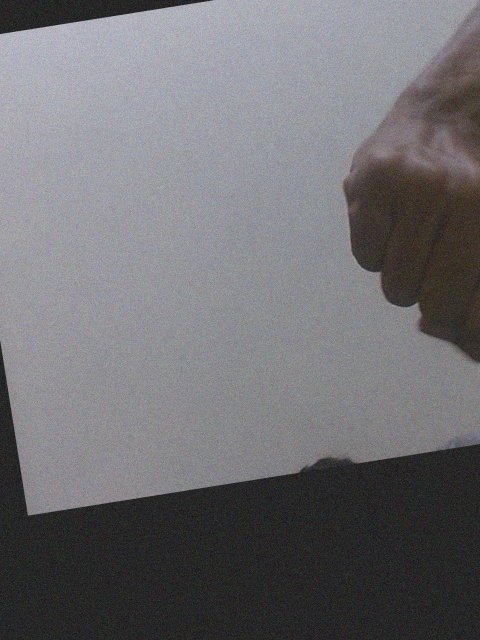hand: (338, 52, 480, 369)
